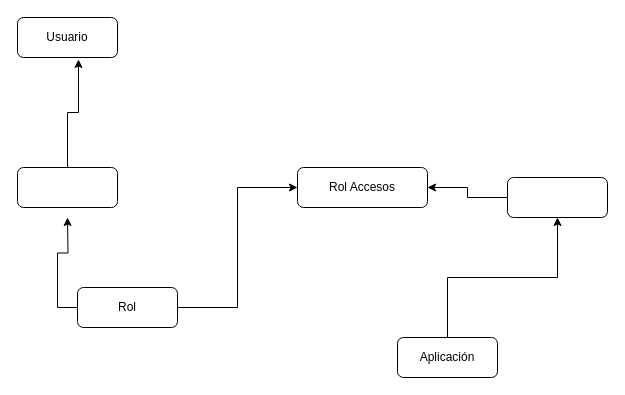
Image size: 625x395. Some labels were removed from this diagram. The centre of each missing label's shape, as x and y in pixels:
Aplicación Rutas: the point at 557,197
Usuario Roles: the point at 67,187
